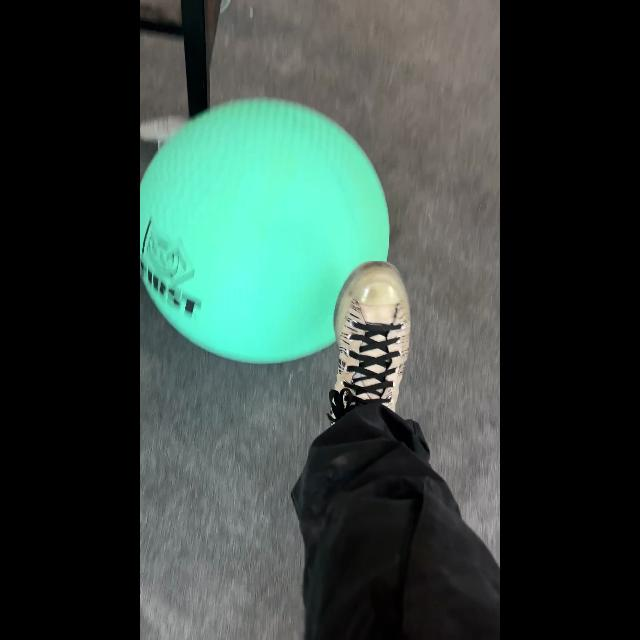ALGAE: (141, 96, 391, 364)
